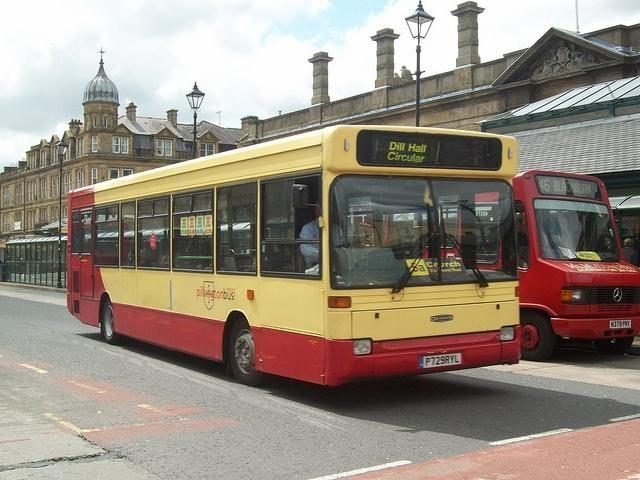bus: (68, 126, 523, 390), (521, 165, 640, 355)
